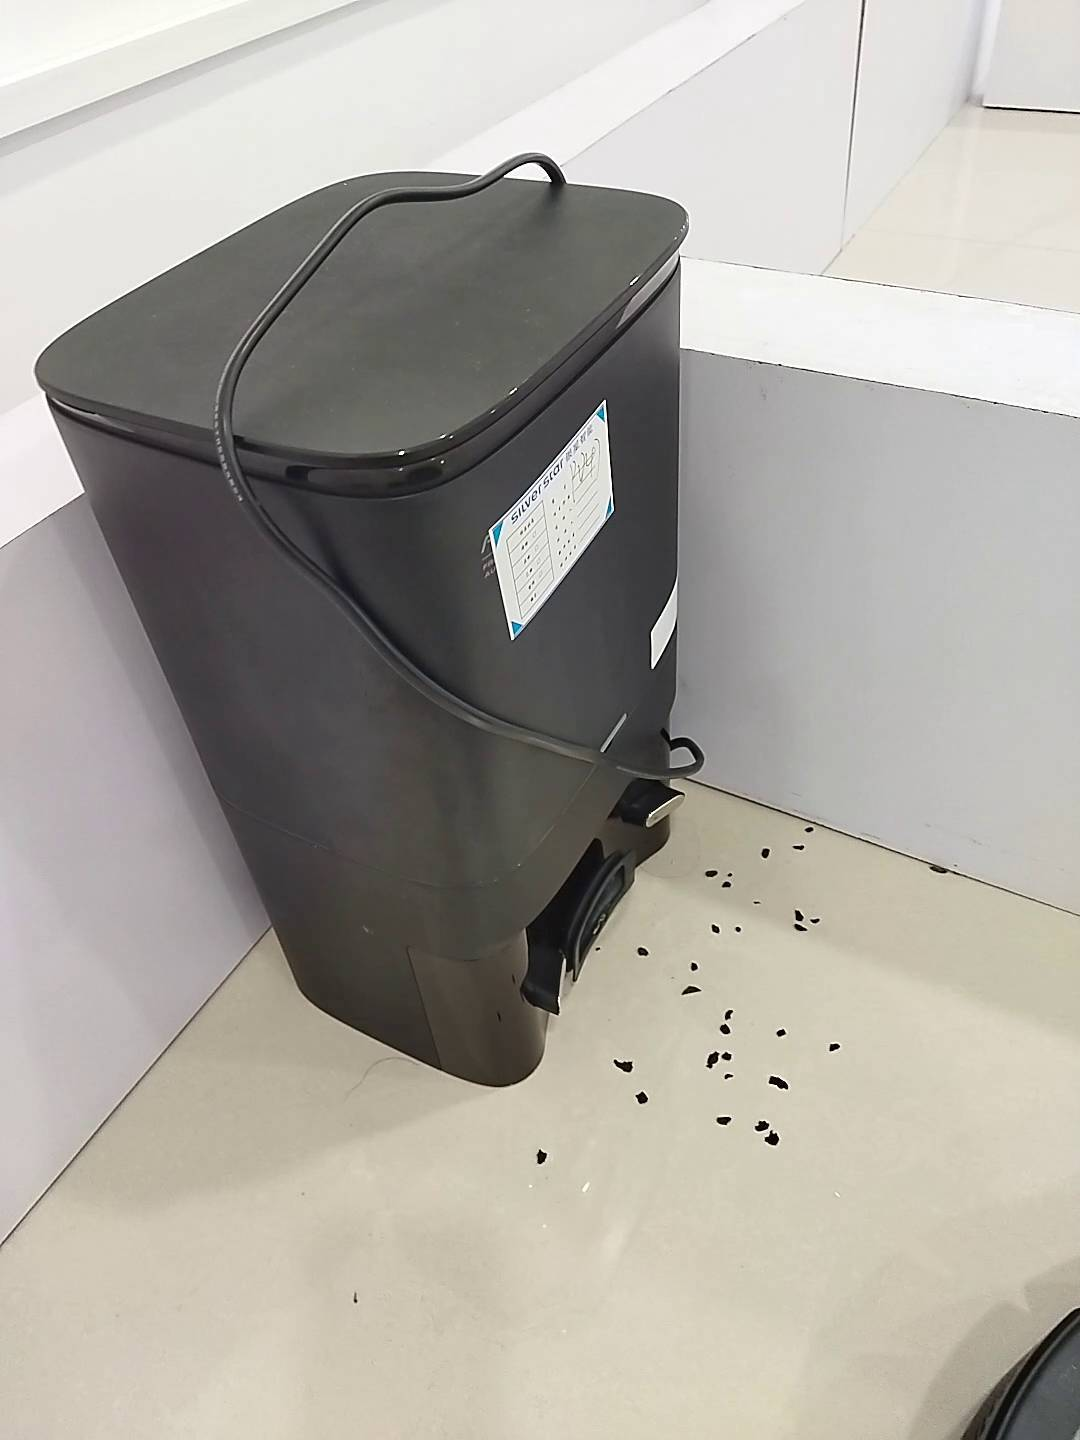dust collecting barrel: (25, 166, 697, 1090)
